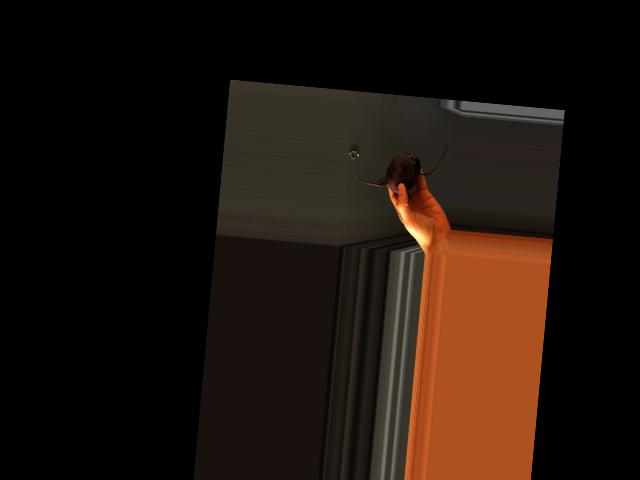beet: (352, 133, 447, 197)
